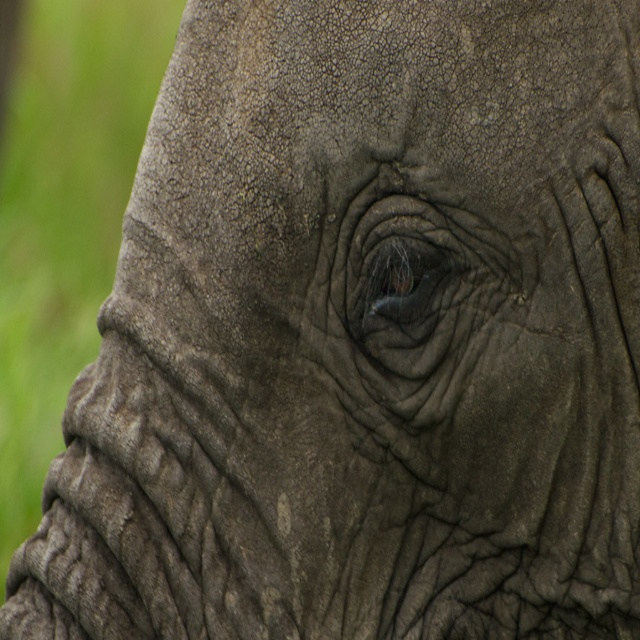Elephant: (0, 2, 615, 640)
